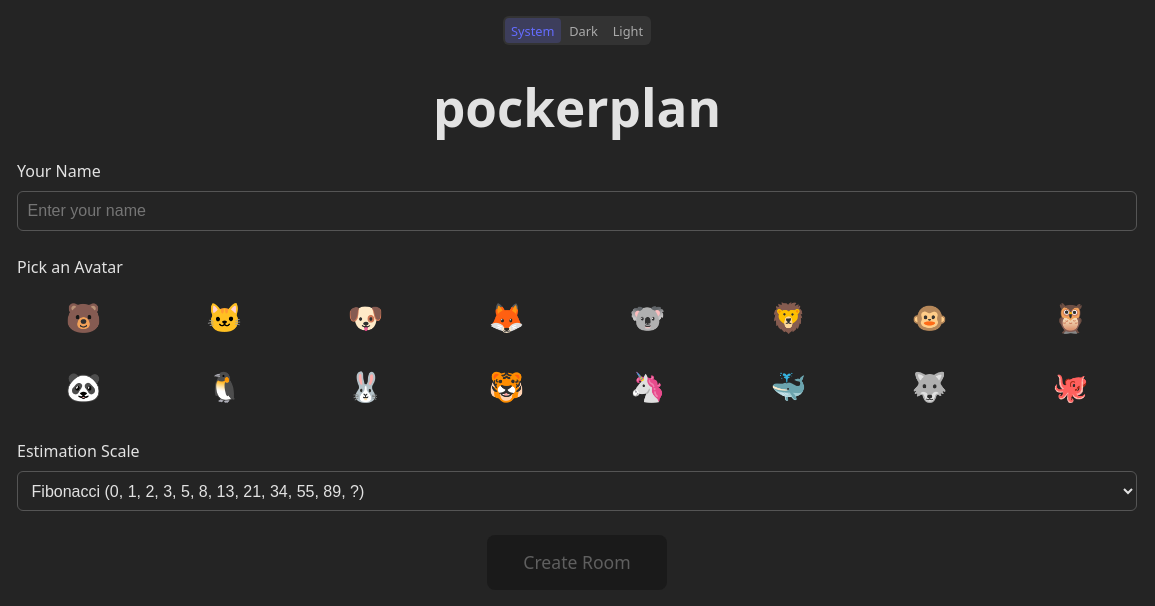
Scenario: HomePage › enables submit when name and avatar are provided
The image size is (1155, 606).
Type "Alice" into the field labelled "Your Name".
click(577, 211); type("Alice")  # box [17,192,1137,231]
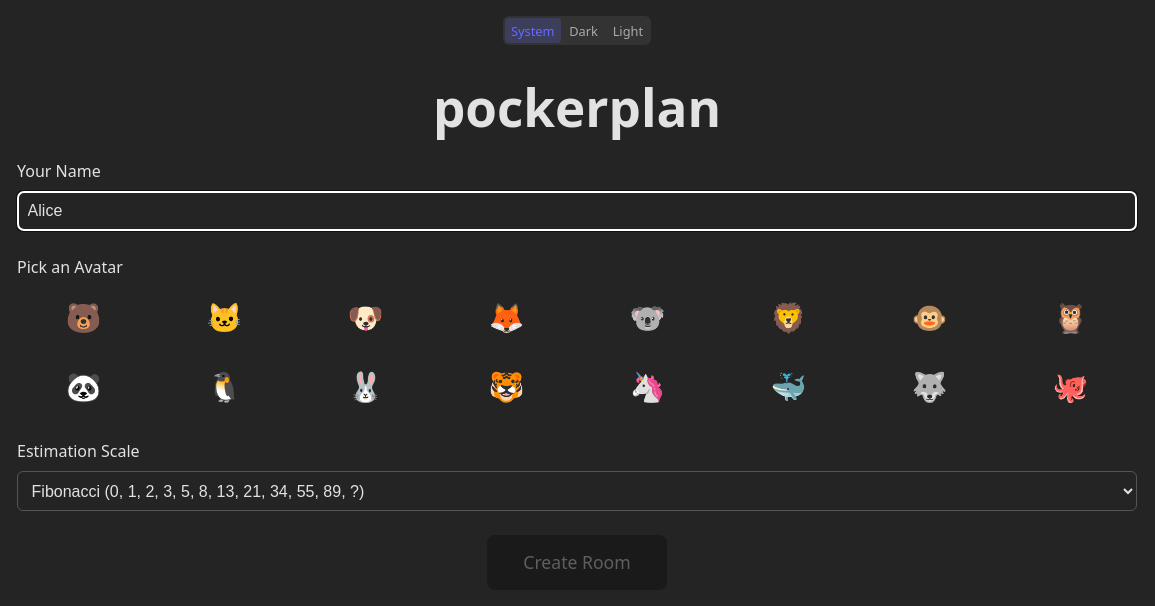
Click the radio button named "Cat".
click(224, 317)  # box [158,287,291,347]
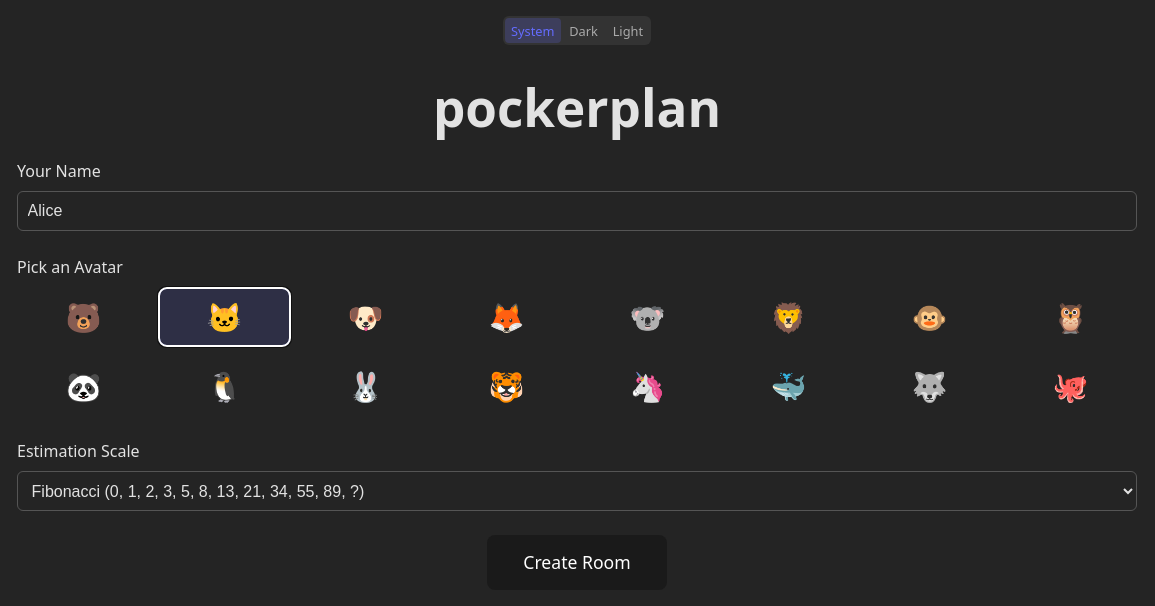
Result: the button "Create Room" is enabled at [487,535,667,590]
